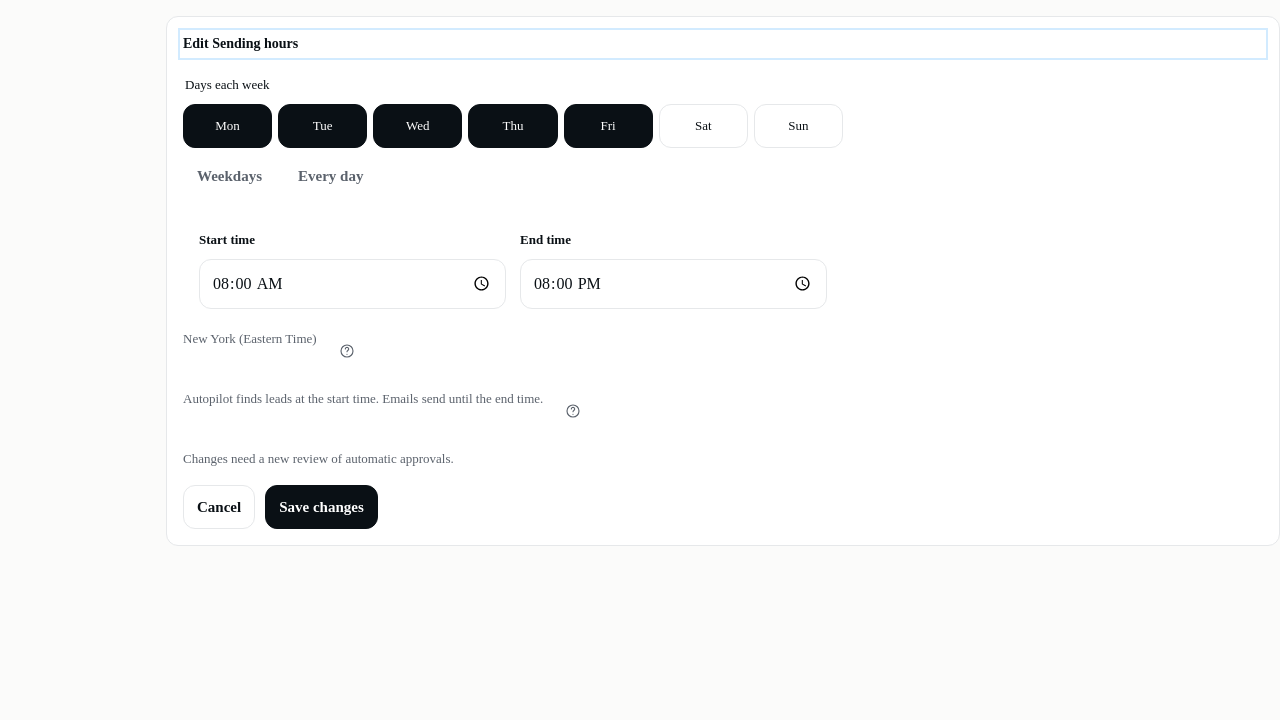
Test: end time 08:00 cannot be at or before start time
Replace the text in the time field labelled "End time" with "08:00" at (674, 284), box x1=520 y1=259 x2=827 y2=309
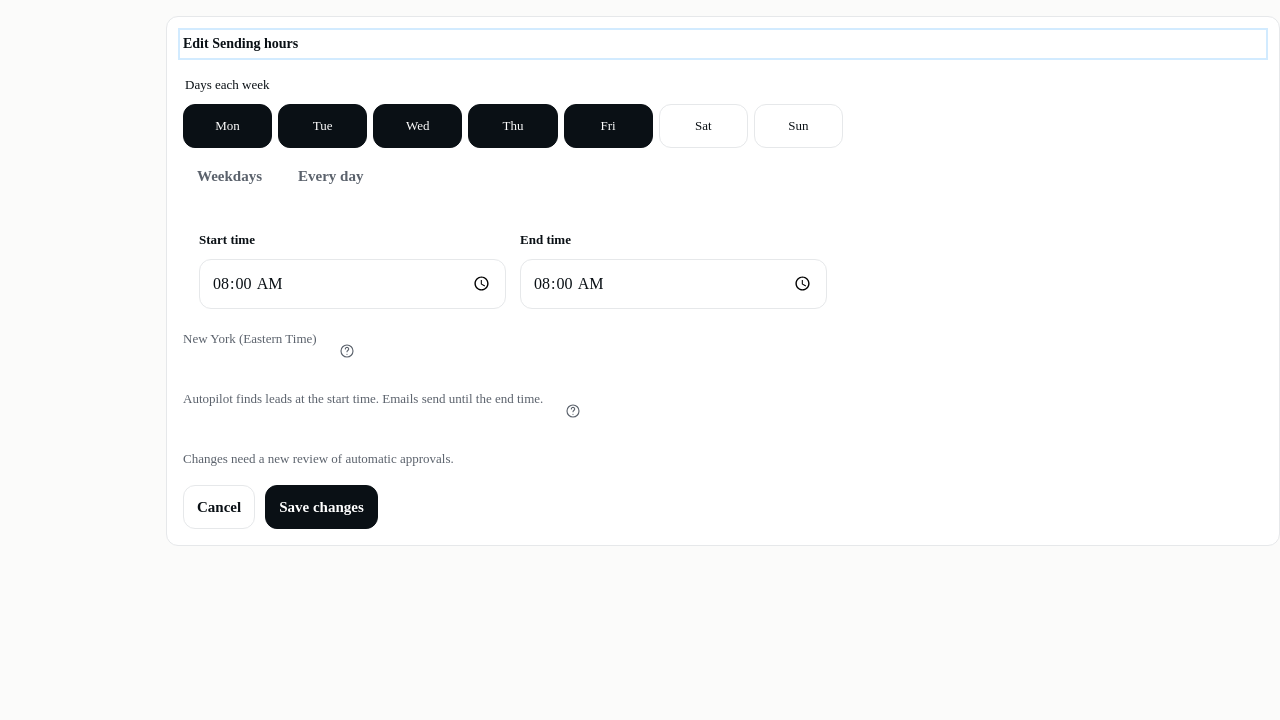
Click the button "Save changes" at (322, 507), box x1=265 y1=485 x2=378 y2=529
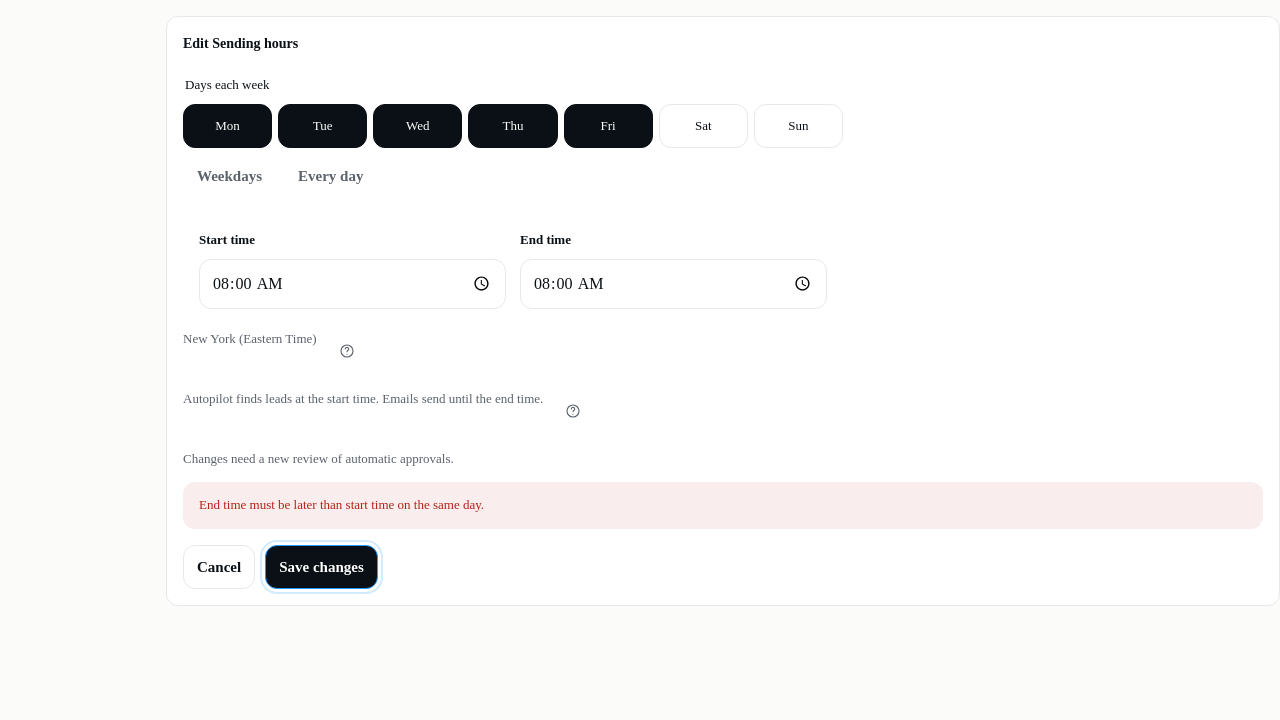
Check: the message shows "End time must be later", box x1=199 y1=497 x2=484 y2=512
